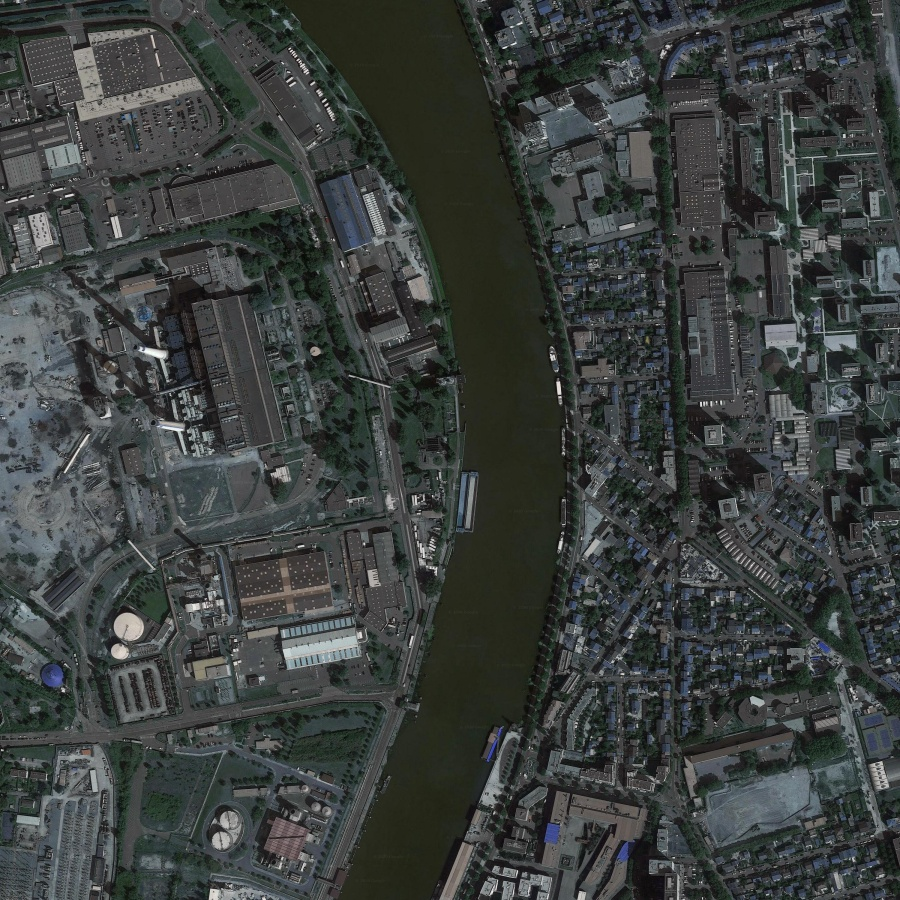PowerPlant: (62, 259, 266, 658)
